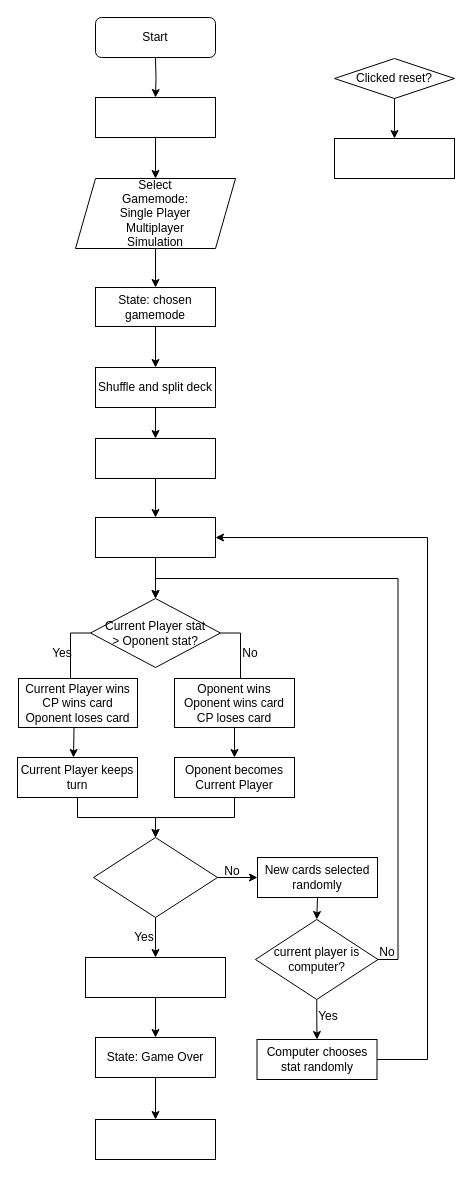
Image size: 472x1178. Some labels were removed from this diagram. Here are the shapes that lost their labels. From the top down, the centre of each, then its label:
(x=155, y=117): State: idle
(x=394, y=158): Back to start
(x=155, y=458): Current Player(CP) = Player 1
(x=155, y=537): Choose and compare stat
(x=155, y=877): Any player's deck length = 0?
(x=155, y=977): Player with 0 cards loses The other player wins
(x=155, y=1139): Show graph + data recorded
